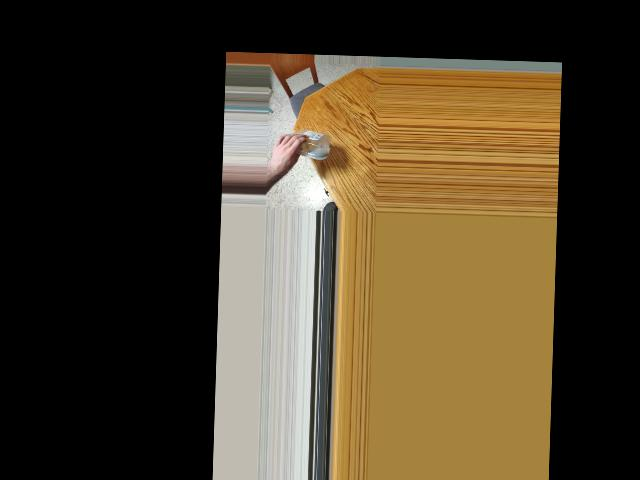cheese: (284, 128, 322, 162)
